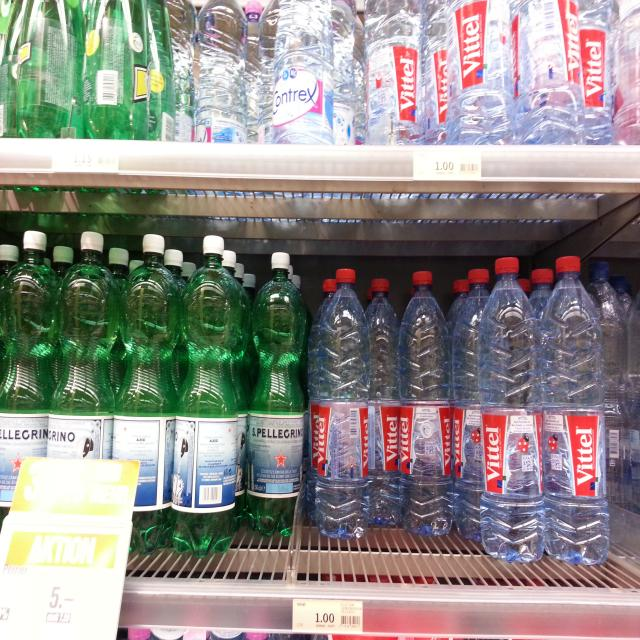Water: (112, 234, 178, 558), (172, 231, 236, 559), (544, 256, 609, 566), (481, 254, 546, 562), (47, 231, 118, 484), (311, 268, 370, 535), (250, 250, 304, 538), (0, 230, 54, 511), (402, 269, 454, 534), (456, 270, 496, 540), (444, 2, 514, 146), (518, 0, 586, 146), (80, 0, 150, 139), (364, 277, 402, 527), (17, 0, 80, 138), (272, 0, 332, 143), (366, 0, 422, 146), (196, 0, 249, 142), (574, 0, 616, 146)
